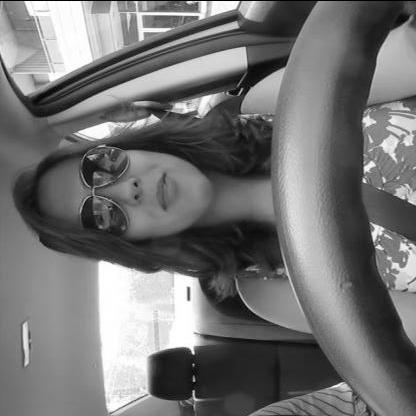seatbelt: (4, 97, 416, 286)
